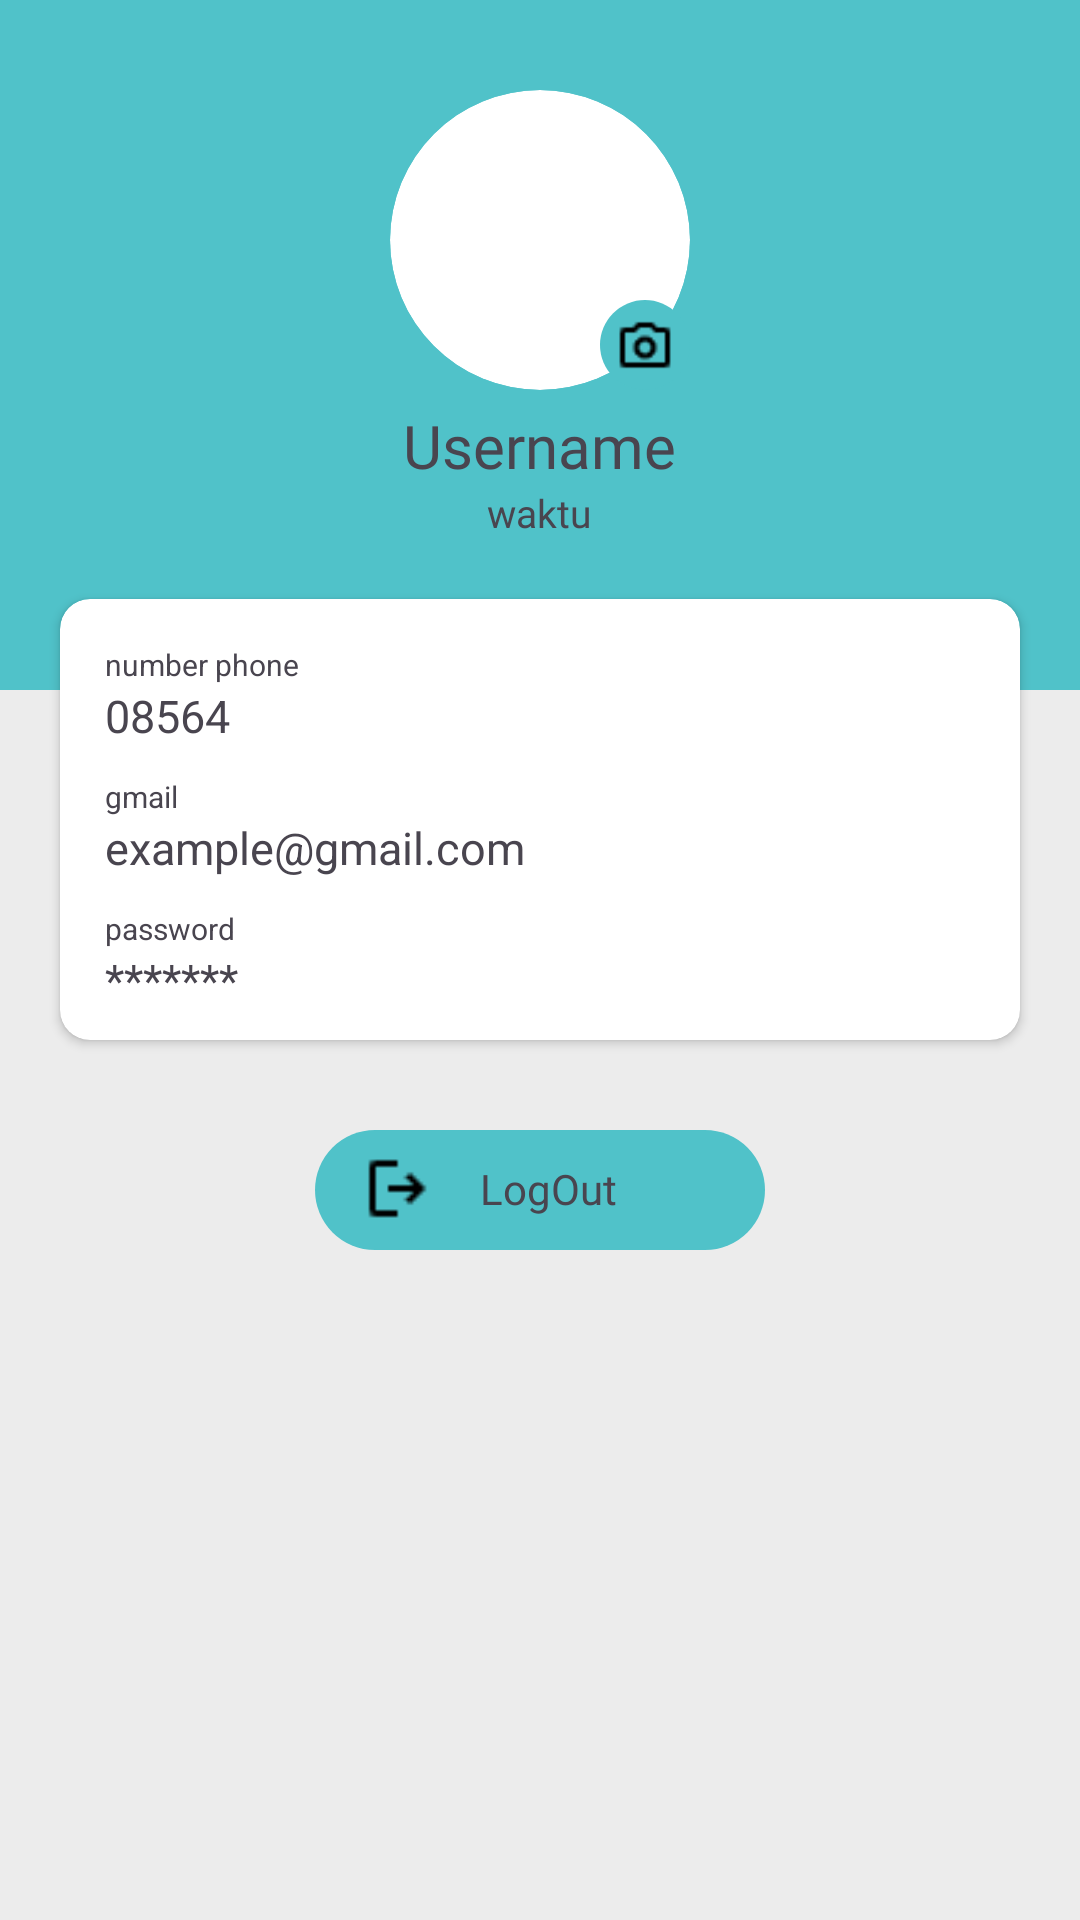

Where icons sit on this 1080×1920 app screen, as (x1, y1, x2, y2):
camera: (619, 322, 671, 368)
